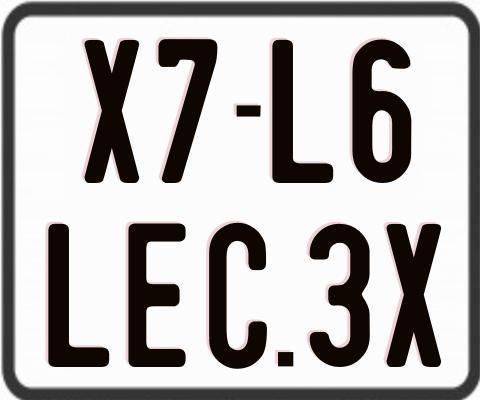3: (308, 224, 372, 371)
6: (352, 36, 413, 186)
7: (155, 37, 214, 186)
C: (206, 222, 267, 368)
E: (128, 220, 186, 364)
L: (47, 223, 114, 366), (272, 38, 335, 183)
X: (386, 222, 443, 369), (82, 37, 138, 184)
